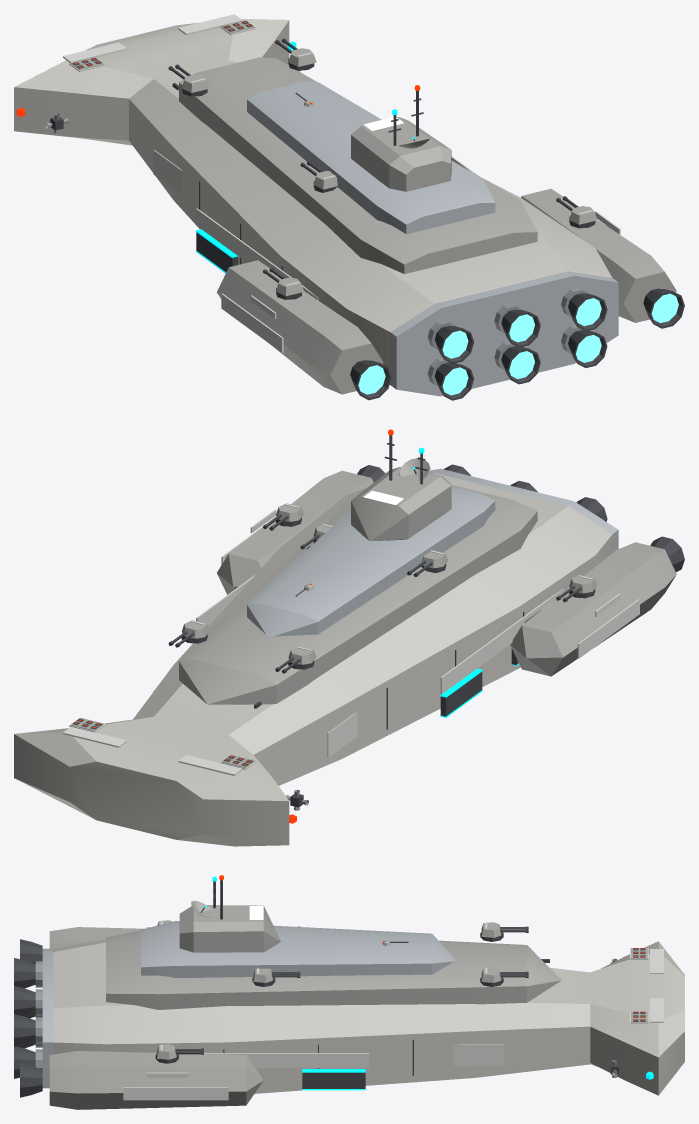
The model's file is battlecruiser.glb.
3 renders of one model, top to bottom at view 1: azimuth 30°, elevation 25°; view 2: azimuth 150°, elevation 25°; view 3: azimuth 270°, elevation 25°, orthographic. The views are drawn at different scales.
Visible parts, largest first — view 1: Hull, Turret_7, Turret_6, Turret_19, Turret_18; view 2: Hull, Turret_6, Turret_7, Turret_18, Turret_19; view 3: Hull, Turret_6, Turret_7, Turret_19, Turret_9.
Part boxes in pixels (bbox=[...]): Hull: bbox=[14, 14, 684, 400]; Turret_7: bbox=[275, 38, 316, 70]; Turret_6: bbox=[168, 64, 209, 96]; Turret_19: bbox=[556, 196, 597, 228]; Turret_18: bbox=[263, 267, 304, 299]; Hull: bbox=[14, 429, 684, 846]; Turret_6: bbox=[275, 646, 316, 673]; Turret_7: bbox=[168, 620, 209, 647]; Turret_18: bbox=[556, 575, 597, 602]; Turret_19: bbox=[263, 503, 304, 530]; Hull: bbox=[14, 875, 684, 1109]; Turret_6: bbox=[480, 922, 528, 941]; Turret_7: bbox=[480, 967, 528, 986]; Turret_19: bbox=[155, 1044, 203, 1063]; Turret_9: bbox=[252, 968, 300, 986].
Bounding box in the file's own units: 1.07 × 0.6518 × 2.
